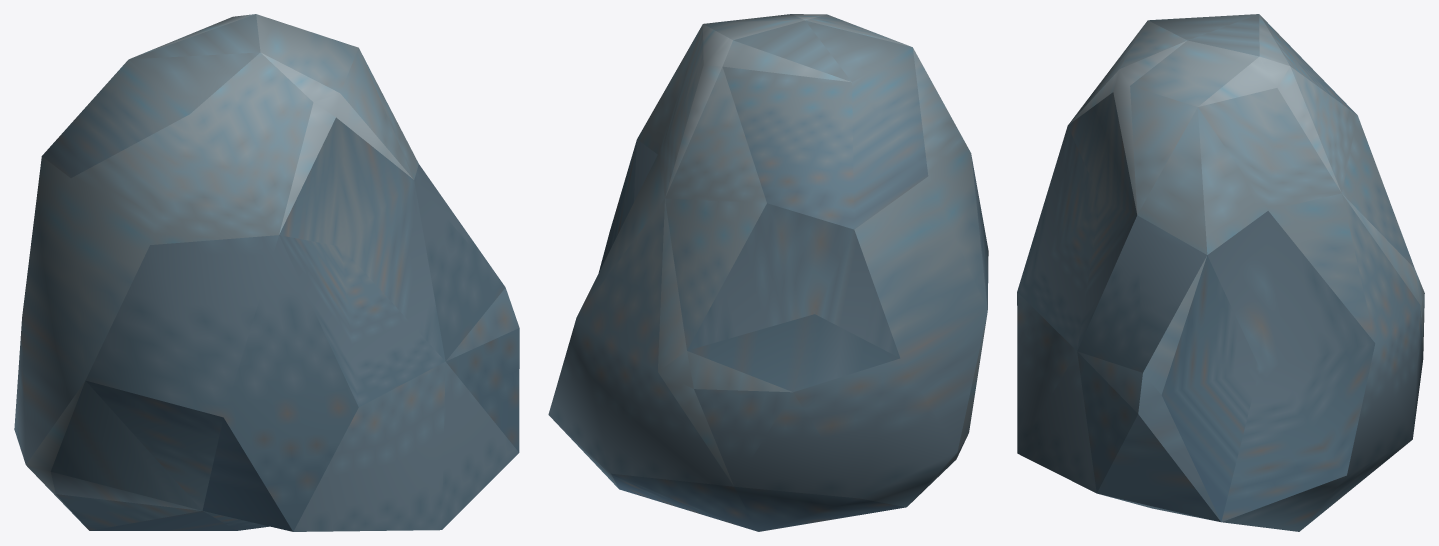
File: Iron_Nugget_Large.gltf
The picture shows the model from 3 angles, left to right: view 1: azimuth 30°, elevation 25°; view 2: azimuth 150°, elevation 25°; view 3: azimuth 270°, elevation 25°; orthographic projection. The views are drawn at different scales.
Visible parts, largest first — view 1: Iron_Nugget_Large; view 2: Iron_Nugget_Large; view 3: Iron_Nugget_Large.
Part boxes in pixels (x1,y1,x2,y2): Iron_Nugget_Large: [14, 14, 519, 531]; Iron_Nugget_Large: [548, 14, 988, 531]; Iron_Nugget_Large: [1017, 14, 1424, 531].
Size of the model in its own units: 0.4271 by 0.4656 by 0.3947.
Materials: 1 (1 with a texture image).
